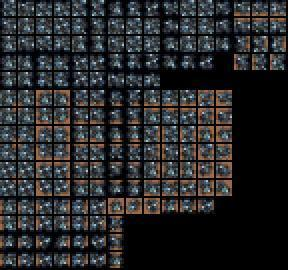iron: (198, 52, 216, 70), (143, 17, 161, 35), (0, 0, 18, 17), (0, 143, 17, 161), (17, 71, 35, 88), (0, 53, 17, 71), (162, 17, 180, 34), (125, 0, 143, 17), (53, 18, 71, 35), (0, 125, 17, 142), (0, 71, 17, 88), (36, 71, 53, 88), (198, 35, 215, 52), (215, 35, 232, 52), (71, 17, 88, 34), (54, 0, 71, 17), (36, 17, 53, 34), (107, 162, 125, 178), (126, 107, 142, 125), (125, 126, 143, 142), (144, 71, 160, 89), (18, 54, 36, 70), (90, 53, 106, 71), (126, 54, 144, 70), (180, 53, 196, 71), (35, 36, 53, 52), (125, 18, 143, 34), (143, 0, 161, 16), (0, 198, 17, 214), (18, 197, 34, 214), (0, 179, 16, 196), (0, 161, 16, 178), (126, 161, 142, 178), (126, 90, 142, 107), (0, 107, 16, 124), (18, 108, 34, 125), (72, 107, 88, 124), (90, 107, 106, 124), (108, 108, 124, 125), (108, 90, 124, 107), (90, 90, 106, 107), (72, 89, 88, 106), (18, 90, 34, 107), (0, 89, 16, 106), (54, 71, 70, 88), (72, 71, 88, 88), (90, 71, 106, 88), (108, 71, 124, 88), (126, 71, 142, 88), (0, 35, 16, 52), (72, 35, 88, 52), (90, 36, 107, 52), (126, 36, 143, 52), (162, 36, 179, 52), (180, 36, 197, 52), (216, 18, 233, 34), (215, 0, 232, 16), (198, 0, 215, 16), (179, 0, 196, 16), (162, 0, 179, 16), (108, 0, 124, 17), (36, 0, 53, 16), (18, 0, 35, 16), (0, 18, 17, 34), (18, 216, 34, 232), (0, 216, 16, 232), (18, 180, 34, 196), (18, 162, 34, 178), (18, 144, 34, 160), (72, 162, 88, 178), (72, 144, 88, 160), (72, 180, 88, 196), (90, 180, 106, 196), (90, 162, 106, 178), (90, 144, 106, 160), (108, 180, 124, 196), (108, 144, 124, 160), (126, 144, 142, 160), (126, 180, 142, 196), (108, 126, 124, 142), (90, 126, 106, 142), (72, 126, 88, 142), (18, 126, 34, 142), (36, 54, 52, 70), (54, 54, 70, 70), (72, 54, 88, 70), (108, 54, 124, 70), (144, 54, 160, 70), (162, 54, 178, 70), (18, 36, 34, 52), (54, 36, 70, 52), (108, 36, 124, 52), (144, 36, 160, 52), (198, 18, 214, 34), (180, 18, 196, 34), (108, 18, 124, 34), (90, 18, 106, 34), (90, 0, 106, 16), (72, 0, 88, 16), (18, 18, 34, 34)
